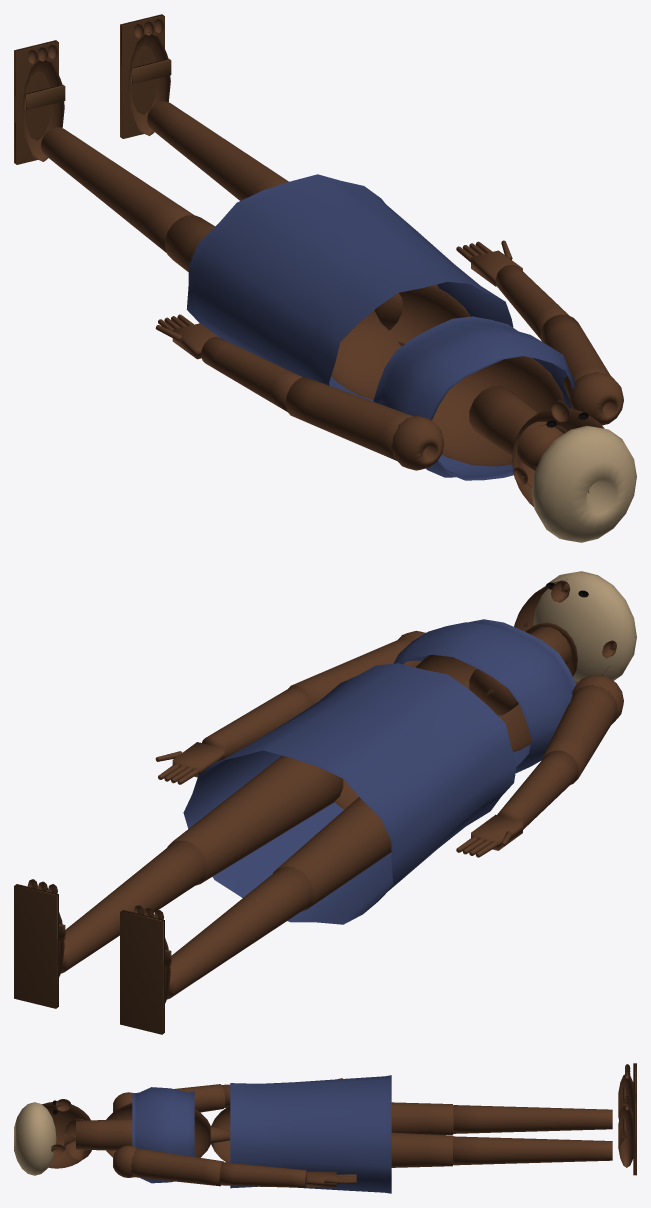
File: NPC_CIVILIAN_ELDER_F.obj
3 views of the same model, one above another, from view 1: azimuth 30°, elevation 25°; view 2: azimuth 150°, elevation 25°; view 3: azimuth 270°, elevation 25° (orthographic). The views are drawn at different scales.
Parts seen in each view (by area): view 1: wrapper_skirt, chest_wrapper, head_tie, shin_foot.L, upperarm.L, shin_foot.R, torso, pelvis, head, forearm_hand.L, upperarm.R, forearm_hand.R (+3 smaller); view 2: wrapper_skirt, chest_wrapper, thigh.R, shin_foot.L, shin_foot.R, head_tie, thigh.L, sandal.L, sandal.R, forearm_hand.R, forearm_hand.L, upperarm.L (+3 smaller); view 3: wrapper_skirt, shin_foot.R, shin_foot.L, chest_wrapper, head, upperarm.R, forearm_hand.R, head_tie, thigh.R, thigh.L, upperarm.L, torso (+2 smaller).
Part boxes in pixels (x1,y1,x2,y2): wrapper_skirt: (186, 174, 513, 401); chest_wrapper: (373, 316, 576, 480); head_tie: (531, 426, 636, 542); shin_foot.L: (22, 44, 193, 252); upperarm.L: (286, 377, 444, 470); shin_foot.R: (128, 18, 288, 200); torso: (432, 356, 563, 466); pelvis: (331, 285, 470, 399); head: (469, 386, 604, 506); forearm_hand.L: (155, 314, 302, 411); upperarm.R: (540, 314, 623, 425); forearm_hand.R: (456, 240, 569, 339); wrapper_skirt: (183, 663, 516, 924); chest_wrapper: (393, 619, 576, 773); thigh.R: (167, 755, 343, 885); shin_foot.L: (134, 866, 312, 1003); shin_foot.R: (27, 840, 206, 977); head_tie: (533, 571, 636, 681); thigh.L: (273, 797, 391, 911); sandal.L: (120, 910, 171, 1034); sandal.R: (14, 884, 65, 1008); forearm_hand.R: (155, 686, 312, 784); forearm_hand.L: (456, 750, 578, 857); upperarm.L: (541, 674, 623, 784); wrapper_skirt: (230, 1075, 391, 1193); shin_foot.R: (453, 1095, 633, 1167); shin_foot.L: (453, 1064, 633, 1133); chest_wrapper: (132, 1087, 194, 1183); head: (42, 1102, 132, 1168); upperarm.R: (113, 1145, 223, 1186); forearm_hand.R: (220, 1162, 356, 1187); head_tie: (14, 1102, 56, 1175); thigh.R: (391, 1132, 453, 1167); thigh.L: (391, 1102, 453, 1135); upperarm.L: (113, 1084, 225, 1112); torso: (106, 1103, 210, 1157).
Size of the model in its own units: 0.7004 by 0.3242 by 1.78.
